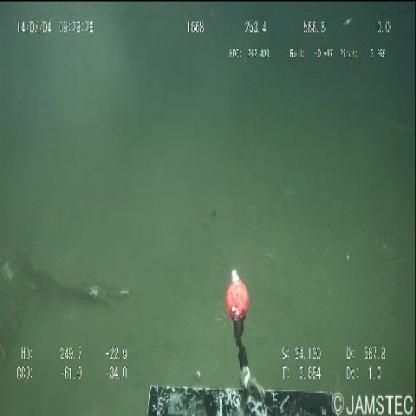Rác: (0, 247, 131, 365)
